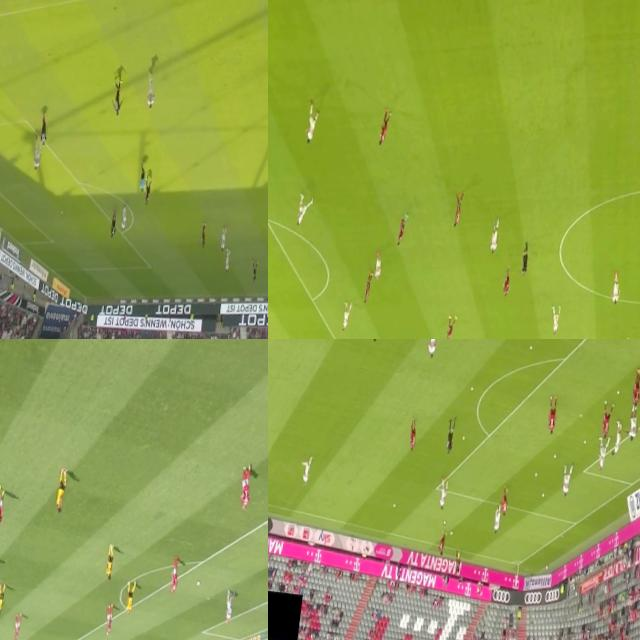ball: (194, 577, 201, 593), (392, 502, 396, 509), (528, 345, 532, 351), (469, 386, 473, 392), (461, 436, 465, 442), (582, 438, 586, 444), (442, 519, 446, 525), (616, 389, 619, 396), (551, 454, 556, 458), (534, 471, 538, 476), (449, 530, 452, 536), (542, 492, 544, 498)
player: (302, 100, 322, 143), (292, 193, 311, 232), (236, 466, 252, 512), (622, 403, 640, 441), (141, 70, 157, 110), (376, 110, 392, 150), (360, 268, 376, 308), (166, 555, 182, 594), (110, 76, 124, 120), (338, 296, 353, 336), (544, 396, 558, 436), (600, 399, 614, 438), (56, 468, 68, 513), (122, 576, 136, 614), (608, 273, 624, 305), (451, 194, 465, 229), (298, 452, 312, 486), (102, 604, 115, 640), (394, 210, 406, 248), (501, 268, 515, 300), (610, 418, 622, 455), (560, 459, 572, 496), (596, 436, 609, 470), (31, 138, 43, 174), (222, 588, 234, 624), (371, 250, 383, 285), (406, 416, 418, 451), (630, 365, 640, 406), (37, 112, 49, 146), (498, 484, 510, 518), (488, 220, 500, 253), (103, 545, 115, 578), (142, 176, 153, 208), (438, 478, 448, 510), (108, 212, 118, 242), (222, 245, 232, 274), (11, 615, 22, 640), (198, 221, 208, 248), (437, 529, 447, 556), (443, 317, 455, 339), (118, 206, 128, 230), (248, 260, 258, 284), (0, 489, 6, 529), (492, 505, 500, 533), (426, 339, 438, 357), (219, 227, 228, 250), (552, 310, 559, 336), (0, 586, 5, 619)
